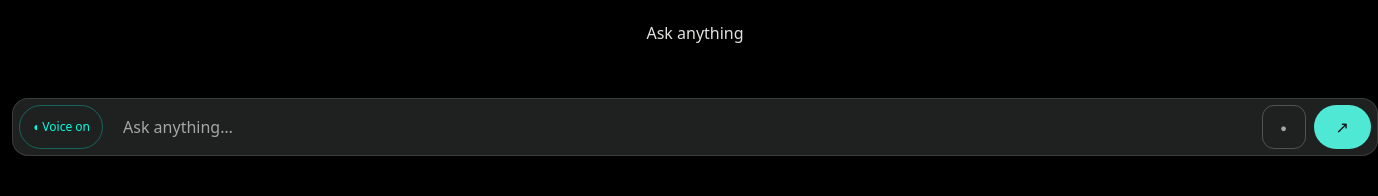
Test case: Ai Mic speech lifecycle › turning Voice off cancels pending synthesis and retains the text answer
The image size is (1378, 196).
Type "What did OS3 find?" into the field named "Message Ai Mic" at (682, 127), box x1=111 y1=106 x2=1254 y2=148
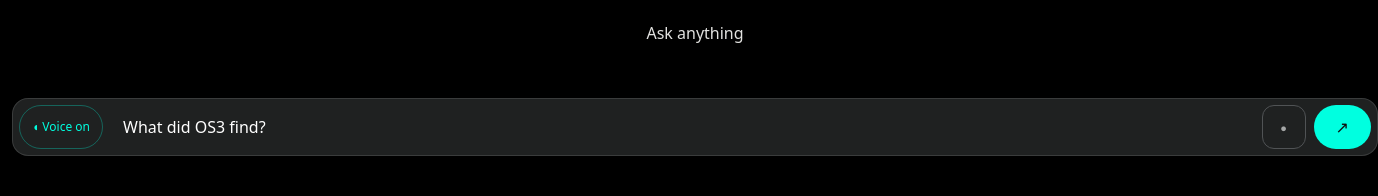
Click the button named "Send" at (1342, 127), box x1=1314 y1=105 x2=1371 y2=149
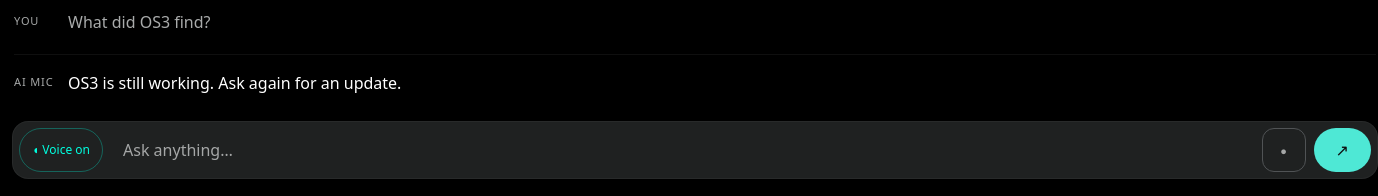
Click the button "◖ Voice on" at (61, 150), box x1=19 y1=128 x2=103 y2=172
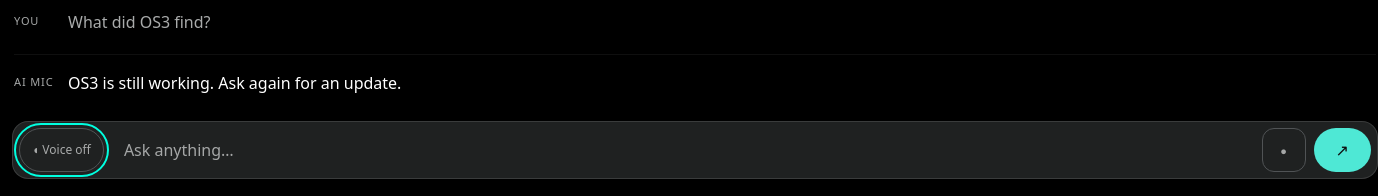
Expected: the text "OS3 is still working. Ask again for an update." is shown, x1=68 y1=72 x2=401 y2=94
Expected: the field named "Message Ai Mic" is enabled, x1=112 y1=129 x2=1254 y2=171
